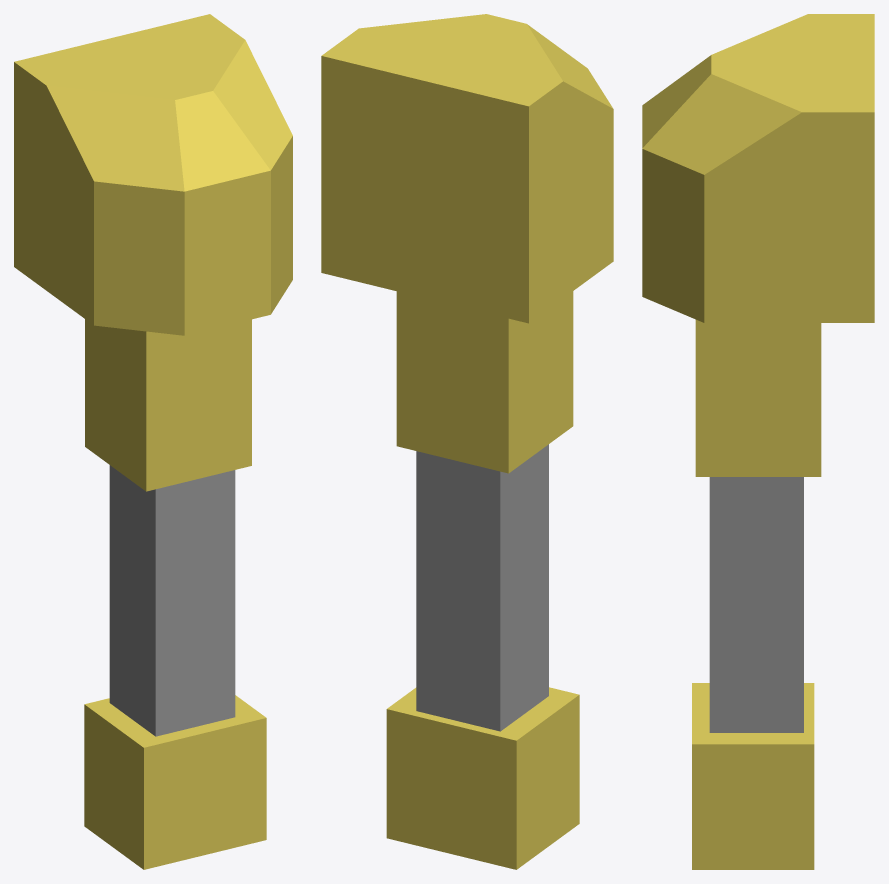
File: mech arm.fbx
3 views of the same model, side by side, from view 1: azimuth 30°, elevation 25°; view 2: azimuth 150°, elevation 25°; view 3: azimuth 270°, elevation 25° (orthographic). The views are drawn at different scales.
Parts seen in each view (by area): view 1: LeftArmFist; view 2: LeftArmFist; view 3: LeftArmFist.
Part boxes in pixels (x1,y1,x2,y2): LeftArmFist: [14, 14, 292, 869]; LeftArmFist: [321, 14, 613, 869]; LeftArmFist: [642, 14, 874, 869].
Bounding box in the file's own units: 129 × 129 × 472.
